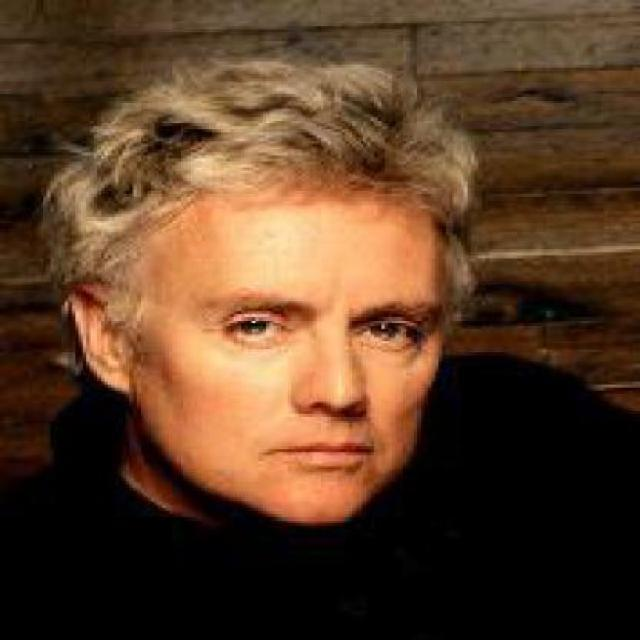closed-mouth: (263, 434, 374, 476)
